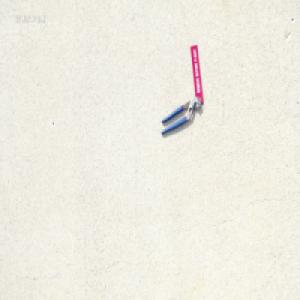Label: (190, 43, 203, 103)
Pliers: (159, 95, 201, 135)
